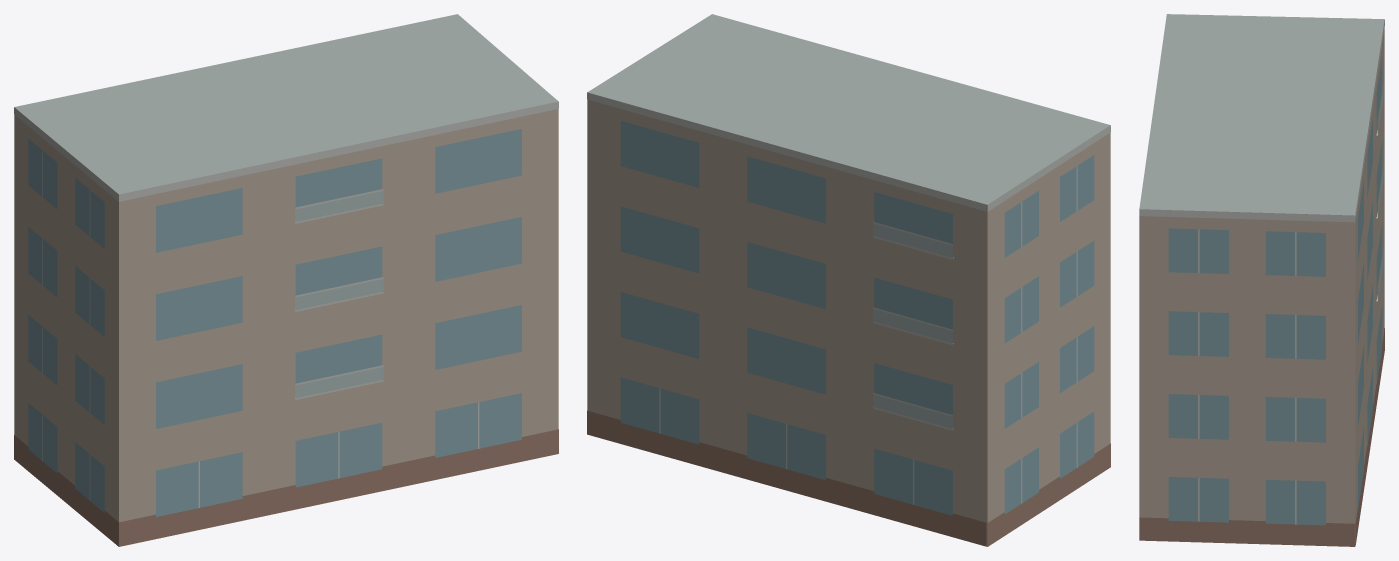
Rendered from survey-upis-32699070.glb.
3 views of the same model, side by side, from view 1: azimuth 30°, elevation 25°; view 2: azimuth 150°, elevation 25°; view 3: azimuth 270°, elevation 25° (orthographic). The views are drawn at different scales.
Parts seen in each view (by area): view 1: survey-upis-32699070.tmp; view 2: survey-upis-32699070.tmp; view 3: survey-upis-32699070.tmp.
Part boxes in pixels (<box>): survey-upis-32699070.tmp: <box>14,14,558,546</box>; survey-upis-32699070.tmp: <box>587,14,1110,546</box>; survey-upis-32699070.tmp: <box>1139,14,1384,546</box>.
Size of the model in its own units: 15.33 by 11.75 by 7.9.
